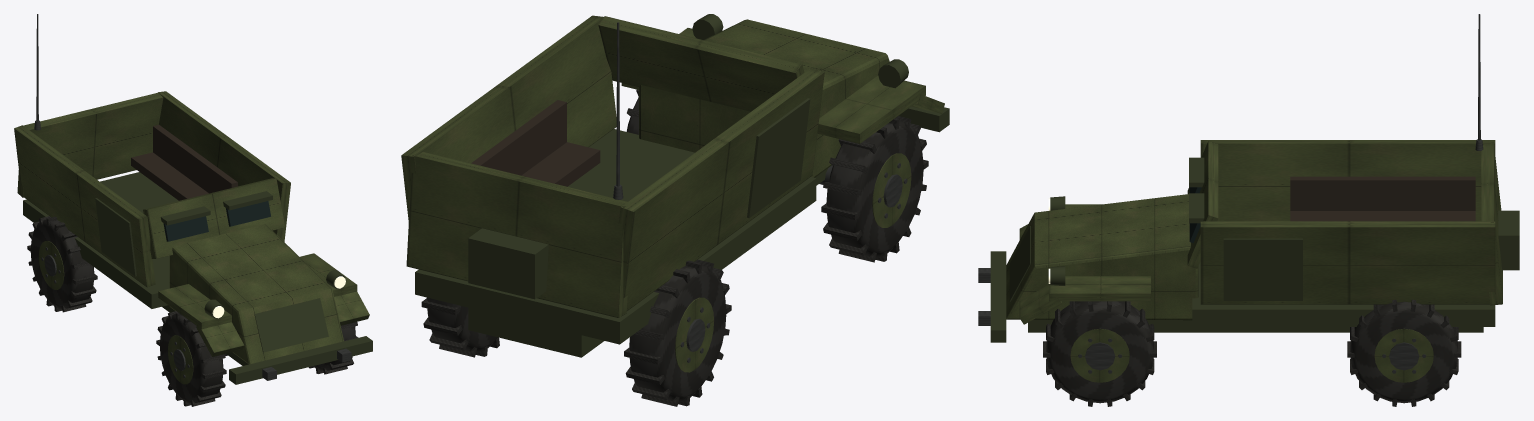
Rendered from btr40_lod0.glb.
3 views of the same model, side by side, from view 1: azimuth 30°, elevation 25°; view 2: azimuth 150°, elevation 25°; view 3: azimuth 270°, elevation 25° (orthographic). The views are drawn at different scales.
Parts seen in each view (by area): view 1: BTR40_Scout; view 2: BTR40_Scout; view 3: BTR40_Scout.
Boxes of the visible parts, bbox=[...] form: BTR40_Scout: bbox=[14, 14, 372, 406]; BTR40_Scout: bbox=[401, 14, 949, 406]; BTR40_Scout: bbox=[978, 14, 1519, 406].
Size of the model in its own units: 2.02 by 3.27 by 5.11.
Materials: 7 (3 with a texture image).
